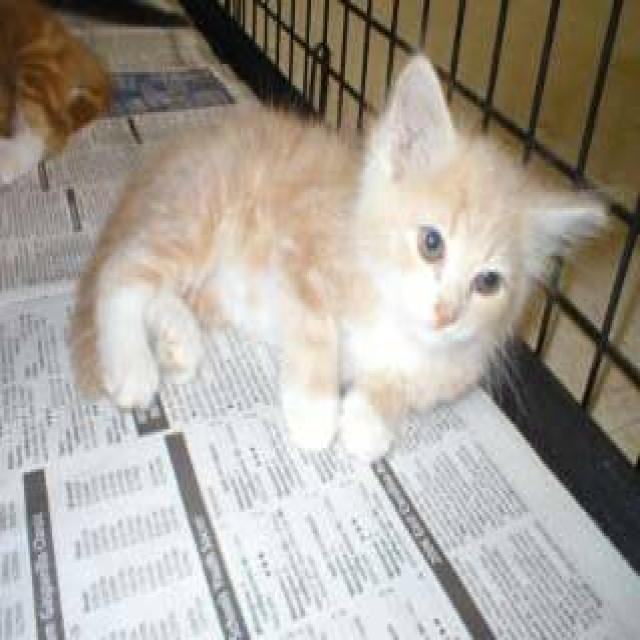cat: (62, 48, 612, 461), (0, 0, 112, 194)
